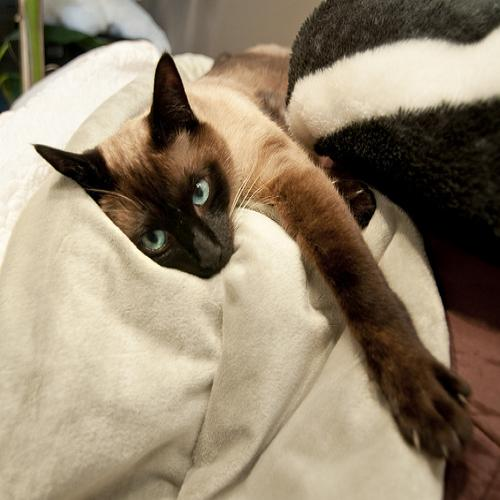siamese: (22, 50, 246, 292)
